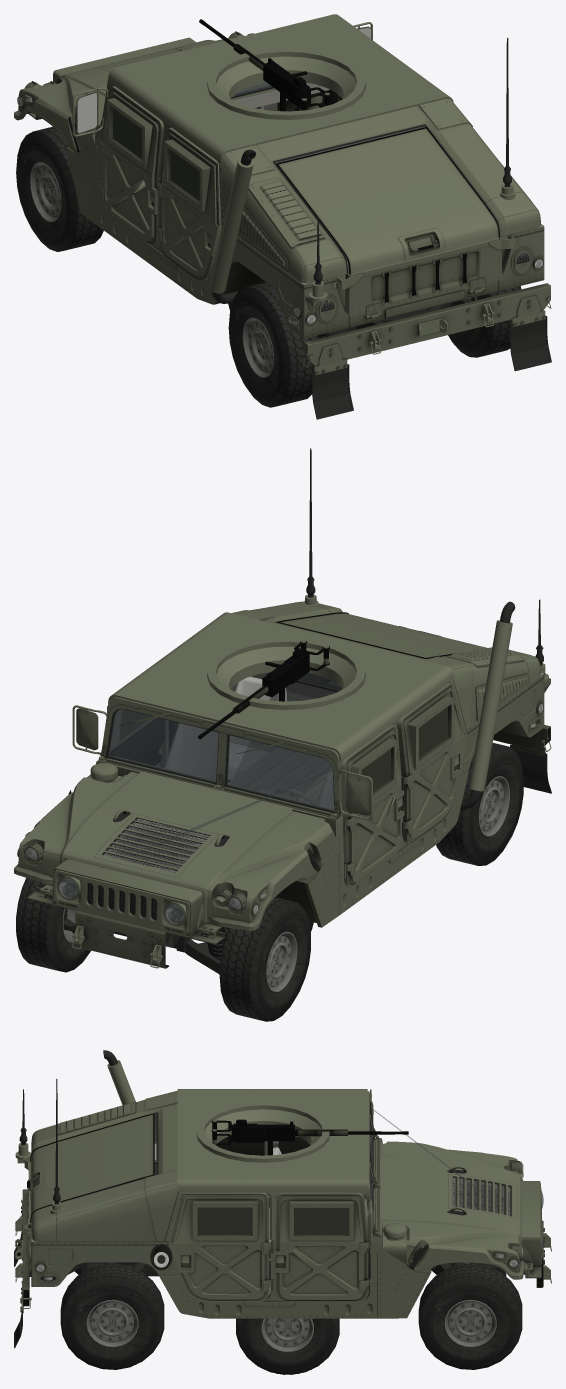
Rendered from hummer.glb.
The picture shows the model from 3 angles, top to bottom: view 1: azimuth 30°, elevation 25°; view 2: azimuth 150°, elevation 25°; view 3: azimuth 270°, elevation 25°; orthographic projection. The views are drawn at different scales.
Parts seen in each view (by area): view 1: Body, WheelL.002, WheelL.001, WheelR.002; view 2: Body, WheelL.001, WheelL.002, WheelR.001; view 3: Body, WheelR.001, WheelR.002, WheelR, WheelL.
Boxes of the visible parts, x1=… form: Body: x1=14, y1=14, x2=551, y2=419; WheelL.002: x1=228, y1=282, x2=318, y2=407; WheelL.001: x1=16, y1=126, x2=103, y2=251; WheelR.002: x1=448, y1=286, x2=521, y2=357; Body: x1=14, y1=448, x2=551, y2=973; WheelL.001: x1=219, y1=897, x2=310, y2=1021; WheelL.002: x1=436, y1=743, x2=523, y2=865; WheelR.001: x1=16, y1=858, x2=90, y2=972; Body: x1=14, y1=1050, x2=551, y2=1348; WheelR.001: x1=418, y1=1263, x2=522, y2=1369; WheelR.002: x1=60, y1=1263, x2=164, y2=1369; WheelR: x1=238, y1=1318, x2=339, y2=1374; WheelL: x1=236, y1=1318, x2=337, y2=1374.
Bounding box in the file's own units: 2.67 × 3.33 × 4.92.
Materials: 5 (4 with a texture image).
